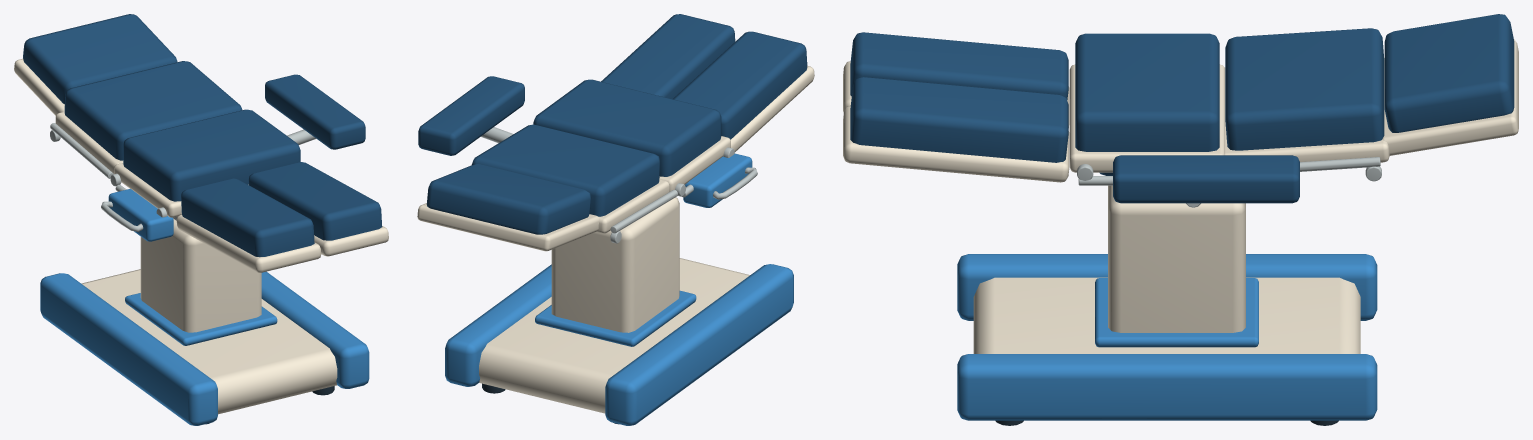
File: medical-06.glb
The picture shows the model from 3 angles, left to right: view 1: azimuth 30°, elevation 25°; view 2: azimuth 150°, elevation 25°; view 3: azimuth 270°, elevation 25°; orthographic projection. The views are drawn at different scales.
Visible parts, largest first — view 1: Fixed_Assembly_Plastic, Seat_Section_Soft, Back_Section_Soft, Head_Section_Soft, Leg_Section_-0.161_Soft, Leg_Section_0.161_Soft, Removable_Armboard_Soft, Leg_Section_-0.161_Plastic, Fixed_Assembly_Metal, Seat_Section_Plastic, Leg_Section_0.161_Plastic, Back_Section_Plastic (+1 smaller); view 2: Fixed_Assembly_Plastic, Seat_Section_Soft, Back_Section_Soft, Head_Section_Soft, Leg_Section_-0.161_Soft, Leg_Section_0.161_Soft, Removable_Armboard_Soft, Head_Section_Plastic, Fixed_Assembly_Metal, Leg_Section_-0.161_Plastic, Back_Section_Plastic, Seat_Section_Plastic; view 3: Fixed_Assembly_Plastic, Back_Section_Soft, Seat_Section_Soft, Leg_Section_0.161_Soft, Head_Section_Soft, Leg_Section_-0.161_Soft, Removable_Armboard_Soft, Leg_Section_0.161_Plastic, Head_Section_Plastic, Seat_Section_Plastic, Back_Section_Plastic, Fixed_Assembly_Metal.
Part boxes in pixels (left/top/right/bottom): Fixed_Assembly_Plastic: left=40, top=189, right=369, bottom=425; Seat_Section_Soft: left=123, top=109, right=300, bottom=201; Back_Section_Soft: left=64, top=61, right=242, bottom=160; Head_Section_Soft: left=23, top=14, right=177, bottom=104; Leg_Section_-0.161_Soft: left=181, top=178, right=314, bottom=257; Leg_Section_0.161_Soft: left=248, top=162, right=382, bottom=240; Removable_Armboard_Soft: left=265, top=74, right=365, bottom=149; Leg_Section_-0.161_Plastic: left=176, top=214, right=321, bottom=272; Fixed_Assembly_Metal: left=50, top=123, right=177, bottom=231; Seat_Section_Plastic: left=114, top=163, right=248, bottom=217; Leg_Section_0.161_Plastic: left=314, top=226, right=388, bottom=256; Back_Section_Plastic: left=55, top=112, right=123, bottom=173; Fixed_Assembly_Plastic: left=445, top=153, right=793, bottom=425; Seat_Section_Soft: left=533, top=79, right=721, bottom=176; Back_Section_Soft: left=471, top=124, right=659, bottom=216; Head_Section_Soft: left=426, top=164, right=591, bottom=234; Leg_Section_-0.161_Soft: left=673, top=31, right=807, bottom=139; Leg_Section_0.161_Soft: left=601, top=14, right=735, bottom=98; Removable_Armboard_Soft: left=418, top=76, right=524, bottom=155; Head_Section_Plastic: left=417, top=203, right=599, bottom=251; Fixed_Assembly_Metal: left=610, top=147, right=757, bottom=243; Leg_Section_-0.161_Plastic: left=730, top=65, right=814, bottom=152; Back_Section_Plastic: left=596, top=179, right=669, bottom=233; Seat_Section_Plastic: left=659, top=136, right=730, bottom=191; Fixed_Assembly_Plastic: left=957, top=172, right=1377, bottom=425; Back_Section_Soft: left=1225, top=28, right=1384, bottom=150; Seat_Section_Soft: left=1075, top=33, right=1219, bottom=151; Leg_Section_0.161_Soft: left=850, top=77, right=1068, bottom=162; Head_Section_Soft: left=1384, top=14, right=1514, bottom=132; Leg_Section_-0.161_Soft: left=850, top=32, right=1068, bottom=99; Removable_Armboard_Soft: left=1113, top=155, right=1299, bottom=203; Leg_Section_0.161_Plastic: left=843, top=106, right=1069, bottom=182; Head_Section_Plastic: left=1382, top=39, right=1518, bottom=155; Seat_Section_Plastic: left=1069, top=64, right=1224, bottom=172; Back_Section_Plastic: left=1224, top=57, right=1389, bottom=162; Fixed_Assembly_Metal: left=1077, top=157, right=1381, bottom=185.
Bounding box in the file's own units: 1.17 × 1.12 × 2.06.
Materials: 3 (3 with a texture image).
